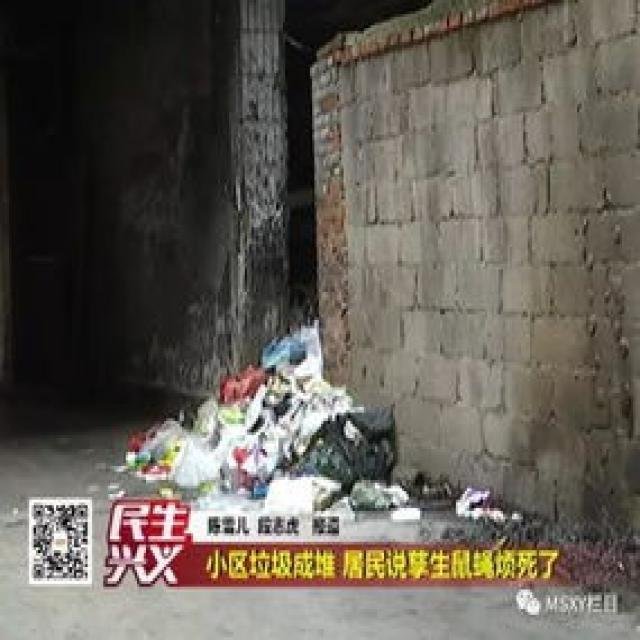garbage: (121, 320, 420, 516)
